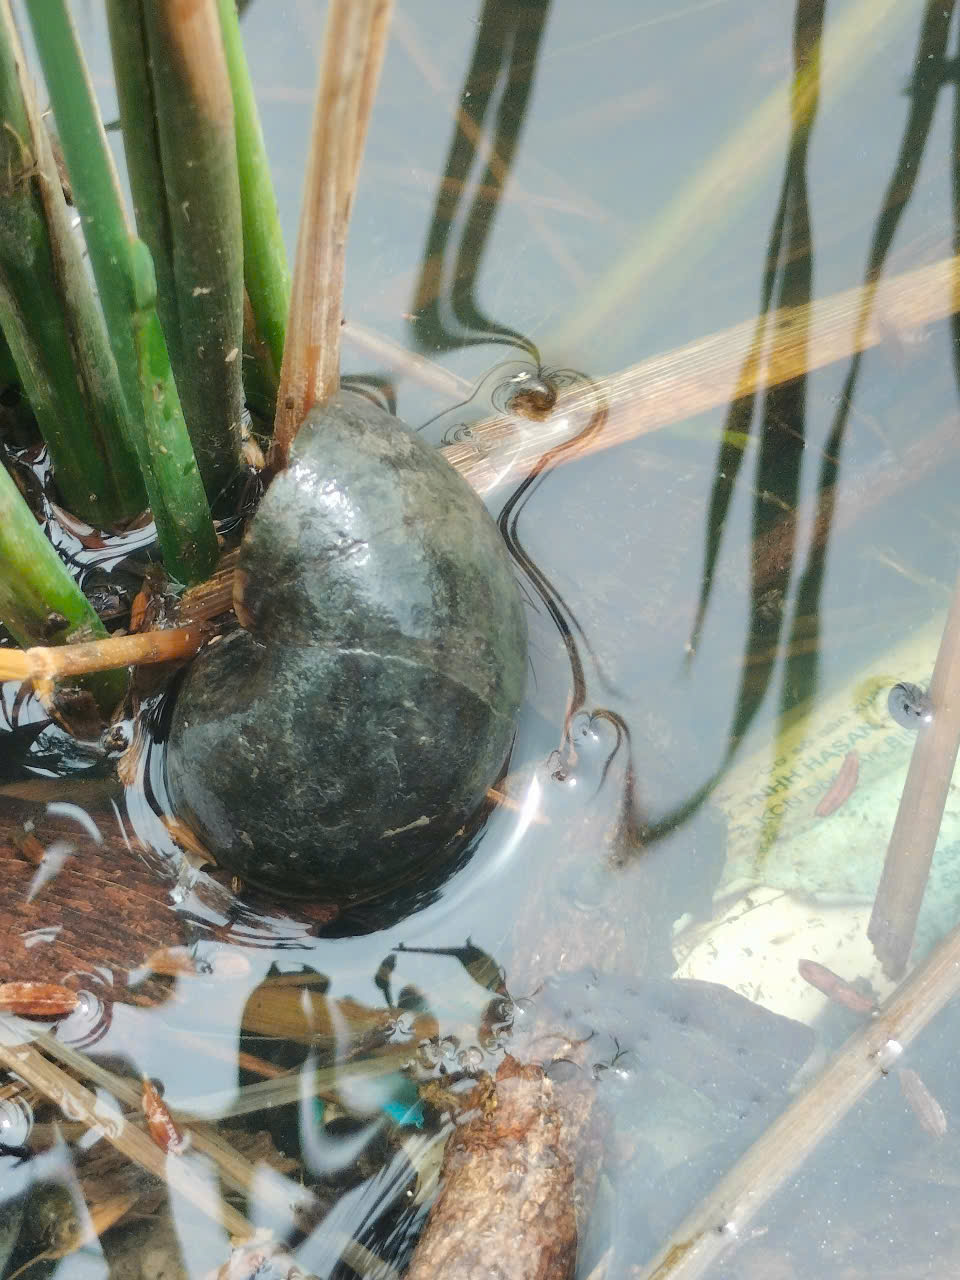oc_buou_vang: (109, 362, 506, 924)
